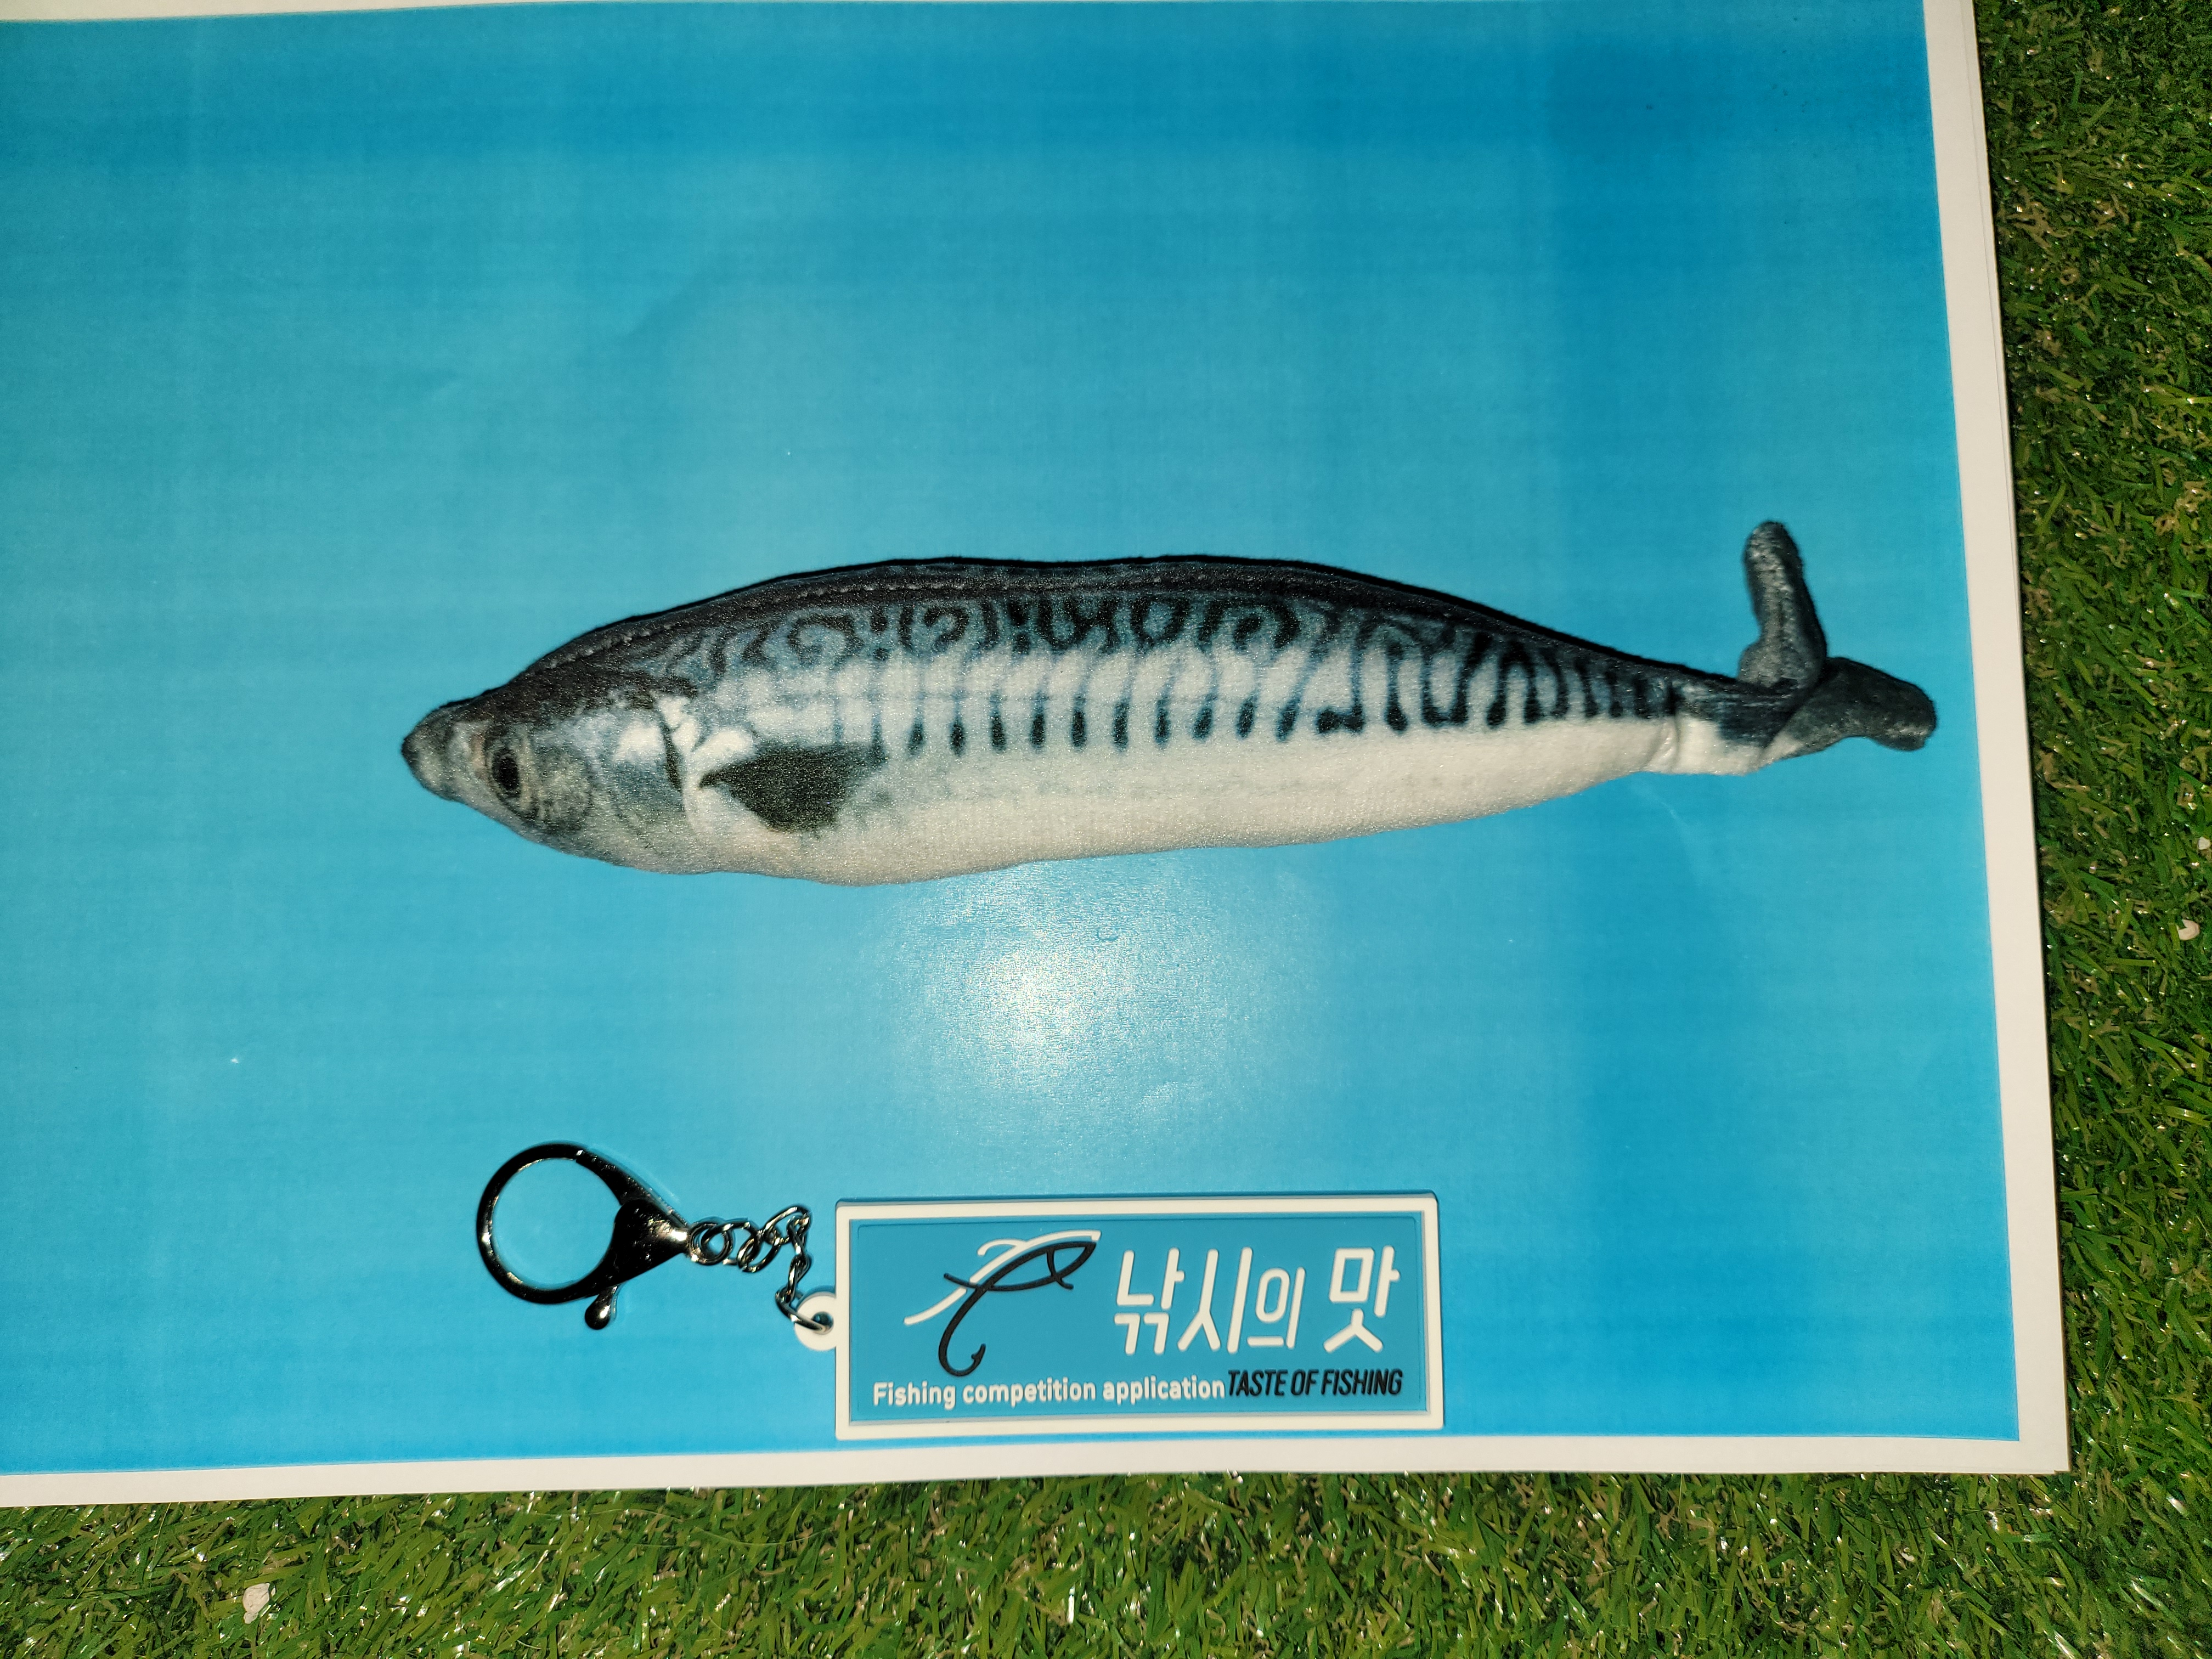fish: (404, 519, 1942, 892)
tag: (838, 1194, 1447, 1441)
